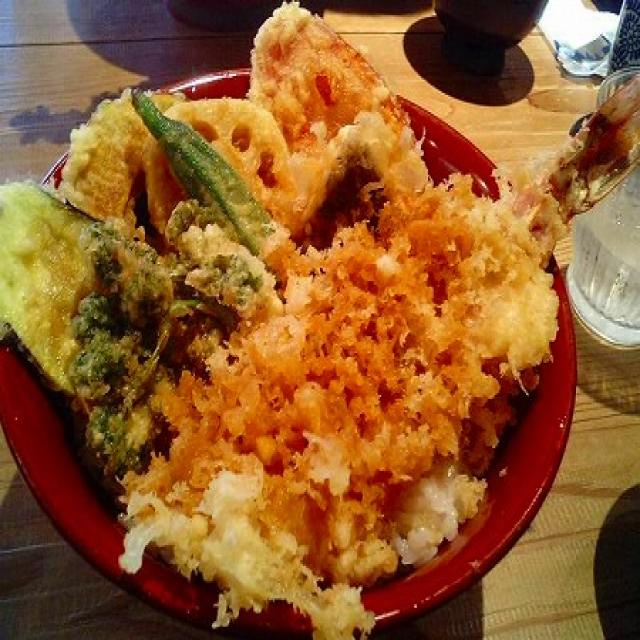熟制海鲜: (0, 49, 579, 640)
